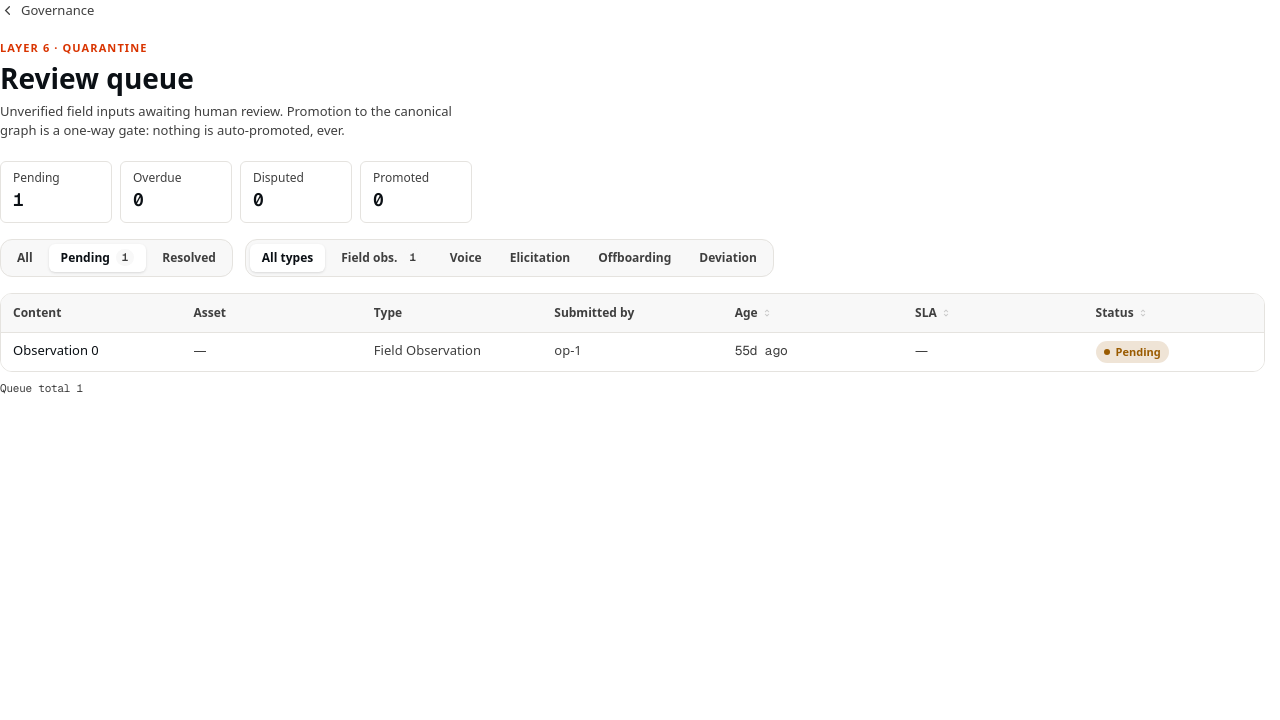
it: QuarantinePage › promotes through the panel with the frozen payload and refetches
What coordinates should you click on to do the following:
click the text "Observation 0"
I would click on:
 (56, 350)
Its box is x1=13 y1=340 x2=99 y2=358.
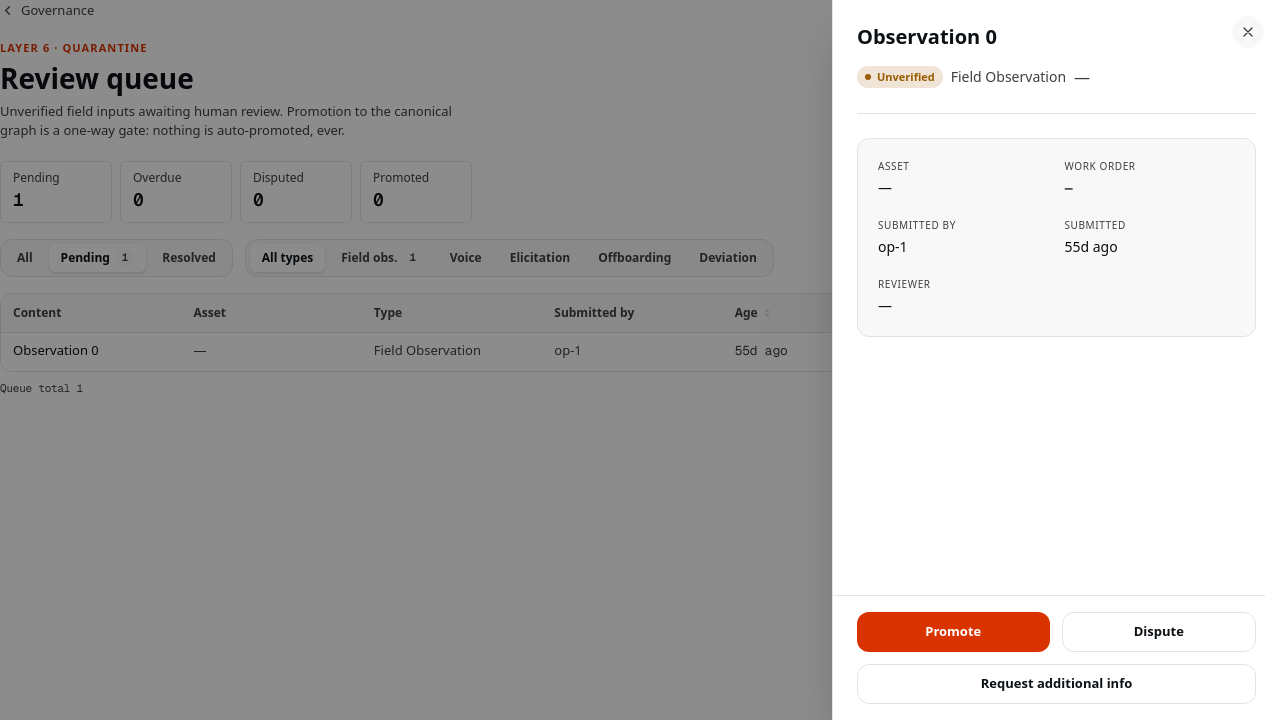
What coordinates should you click on to do the following:
click the button "Promote"
I would click on:
 (953, 632)
Its box is x1=857 y1=612 x2=1050 y2=652.
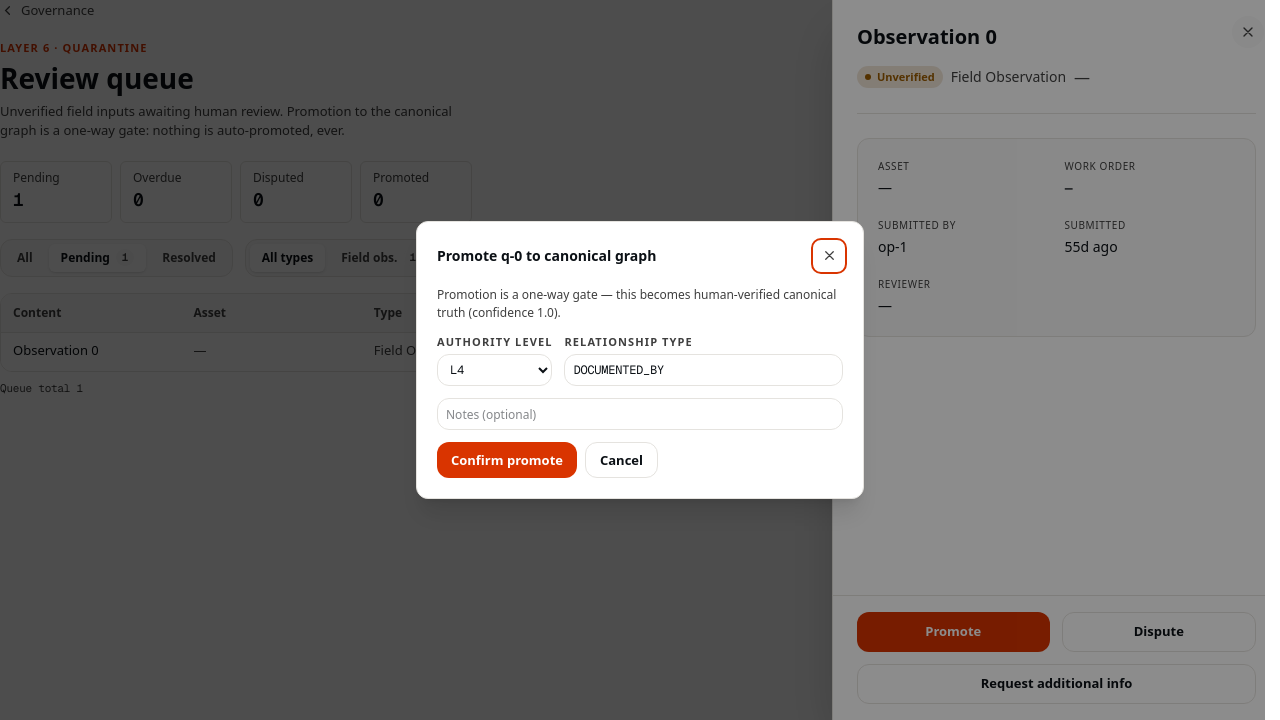
What coordinates should you click on to do the following:
click the button "Confirm promote"
I would click on:
 (507, 460)
Its box is x1=437 y1=442 x2=577 y2=478.
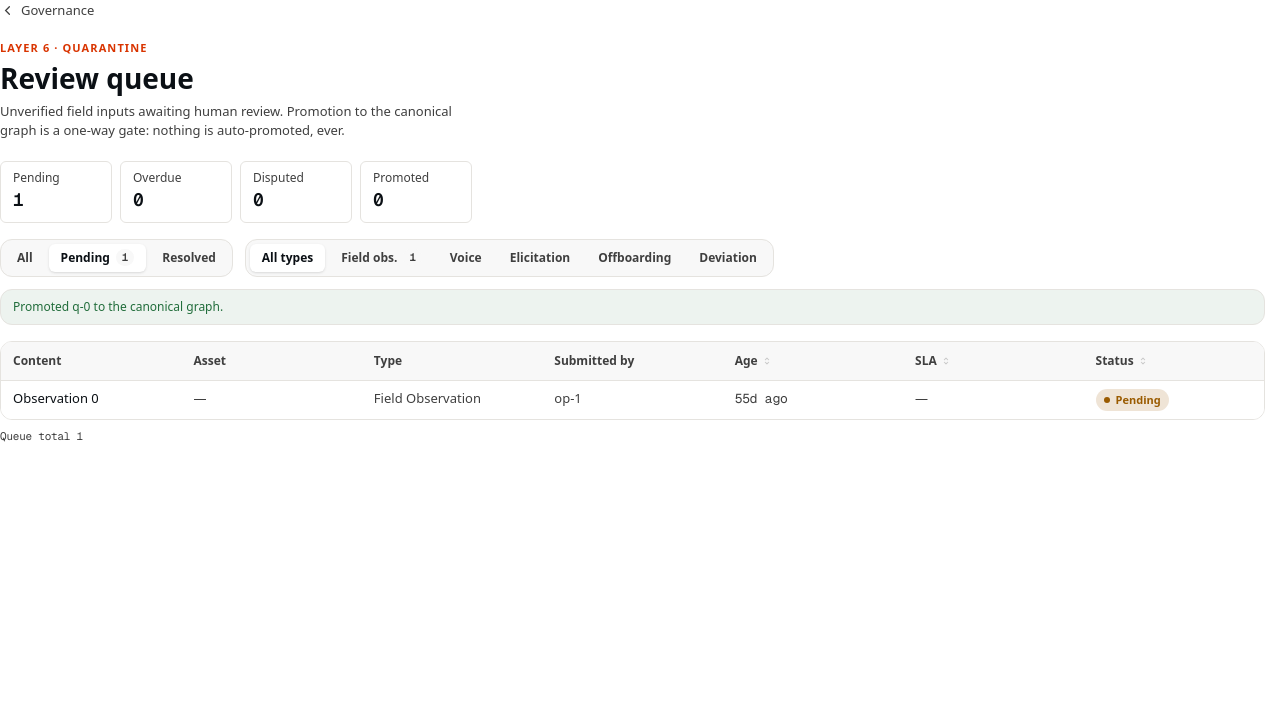
Check: the text "Promoted q-0 to the canonical graph." is shown, box x1=0 y1=288 x2=1265 y2=324
Check: the element with test id "quarantine-panel" is gone
